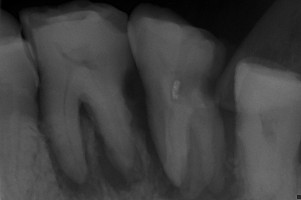Dental Caries: (124, 97, 245, 200), (44, 102, 145, 200)
